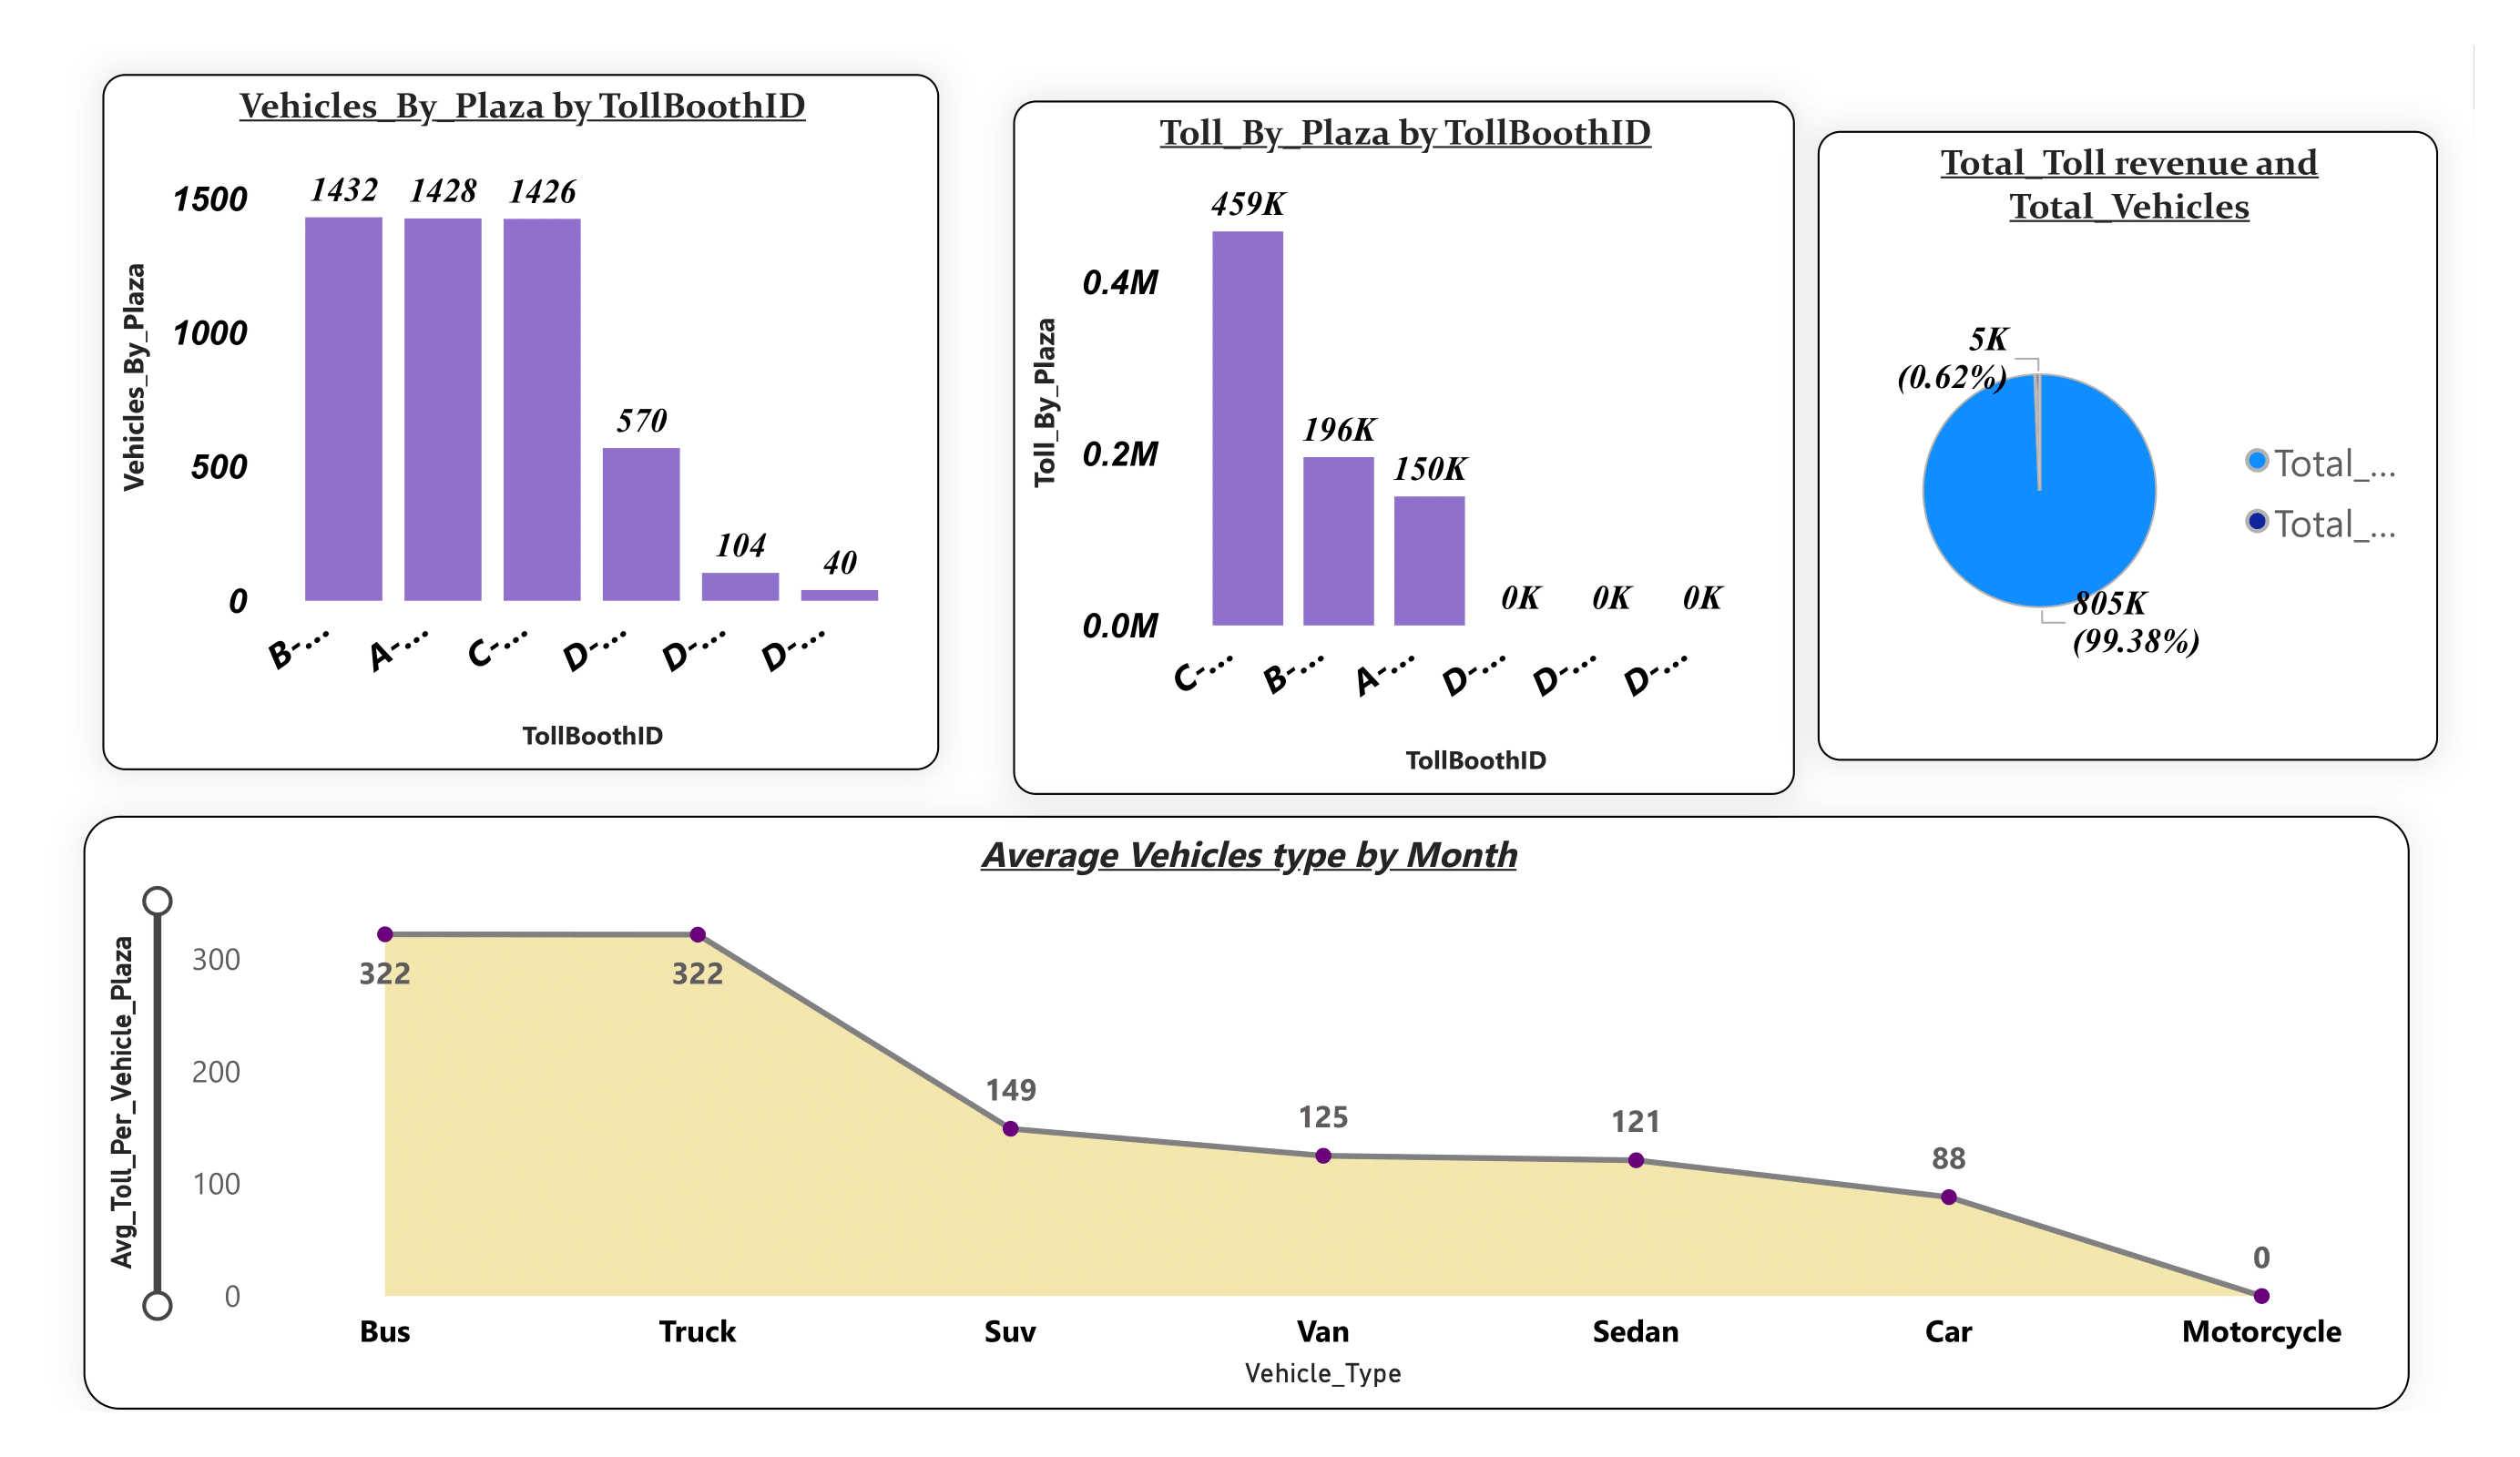

Layout of this report page (visuals, bound fields, positions):
{"tool":"powerbi","page":{"name":"Page 3","canvas":[1280,720],"ordinal":2},"visuals":[{"type":"clusteredColumnChart","fields":{"Category":["FastagFraudDetection.TollBoothID"],"Y":["Measure Table.Vehicles_By_Plaza"]},"box":[30.3,15.1,440.6,366.4],"z":0},{"type":"clusteredColumnChart","fields":{"Category":["FastagFraudDetection.TollBoothID"],"Y":["Measure Table.Toll_By_Plaza"]},"box":[510.3,28.8,411.9,366.4],"z":1000},{"type":"lineChart","title":"Average Vehicles type by Month","fields":{"Y":["Measure Table.Avg_Toll_Per_Vehicle_Plaza"],"Category":["FastagFraudDetection.Vehicle_Type"]},"box":[19.7,405.8,1226.5,313.4],"z":2000},{"type":"pieChart","fields":{"Y":["Measure Table.Total_Toll revenue","Measure Table.Total_Vehicles"]},"box":[934.3,45.4,327.1,331.6],"z":3000}]}

Visuals, with their boxes in screenshot pixels (x1, y1, x2, y2):
clusteredColumnChart - FastagFraudDetection.TollBoothID x Measure Table.Vehicles_By_Plaza: rect(103, 74, 939, 769)
clusteredColumnChart - FastagFraudDetection.TollBoothID x Measure Table.Toll_By_Plaza: rect(1014, 100, 1795, 795)
"Average Vehicles type by Month" lineChart: rect(83, 815, 2411, 1410)
pieChart - Measure Table.Total_Toll revenue x Measure Table.Total_Vehicles: rect(1819, 132, 2439, 760)
